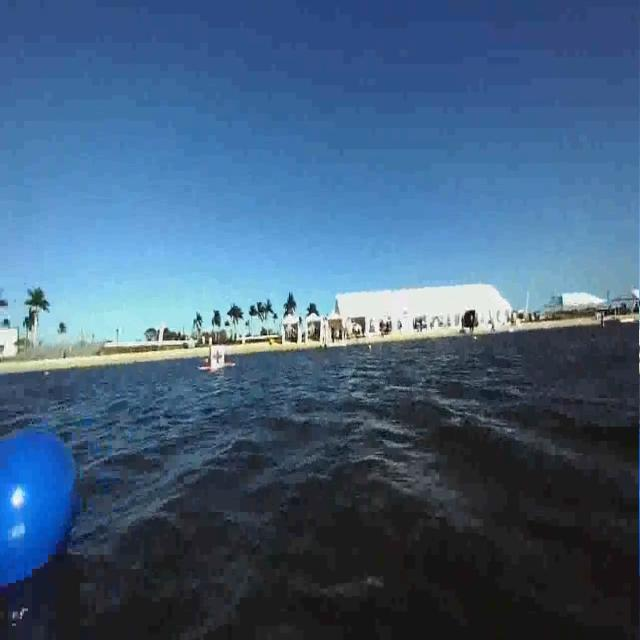blue-buoy: (0, 423, 80, 609)
